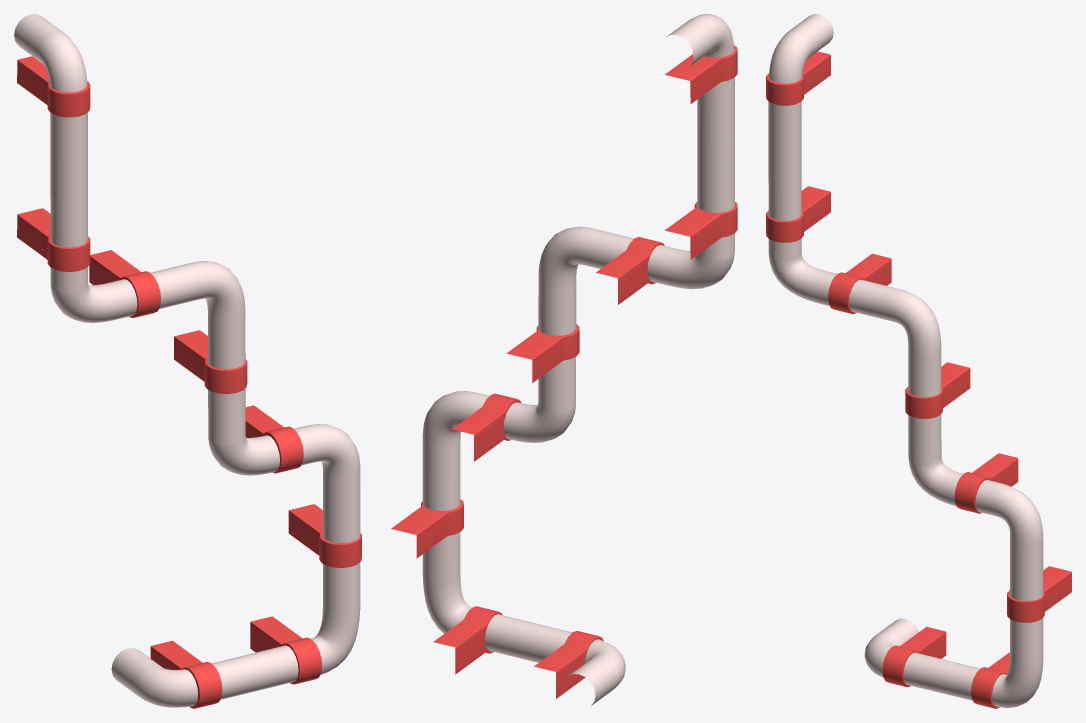
File: City_19_Pipe_2.glb
3 renders of one model, left to right at view 1: azimuth 30°, elevation 25°; view 2: azimuth 150°, elevation 25°; view 3: azimuth 330°, elevation 25°, orthographic. The views are drawn at different scales.
Parts seen in each view (by area): view 1: City_19_Pipe_2; view 2: City_19_Pipe_2; view 3: City_19_Pipe_2.
Boxes of the visible parts, box(x1,y1,x2,y2) form: City_19_Pipe_2: box(14, 14, 361, 708); City_19_Pipe_2: box(391, 14, 737, 705); City_19_Pipe_2: box(766, 14, 1071, 708).
Bounding box in the file's own units: 3.52 × 7.55 × 0.9758.
Materials: 1 (1 with a texture image).
